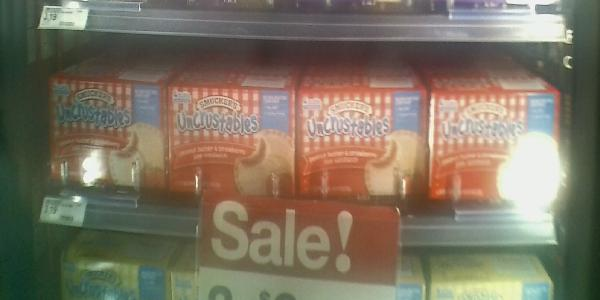icecream: (293, 81, 430, 212), (165, 73, 295, 211), (427, 83, 565, 211), (49, 73, 167, 201)
